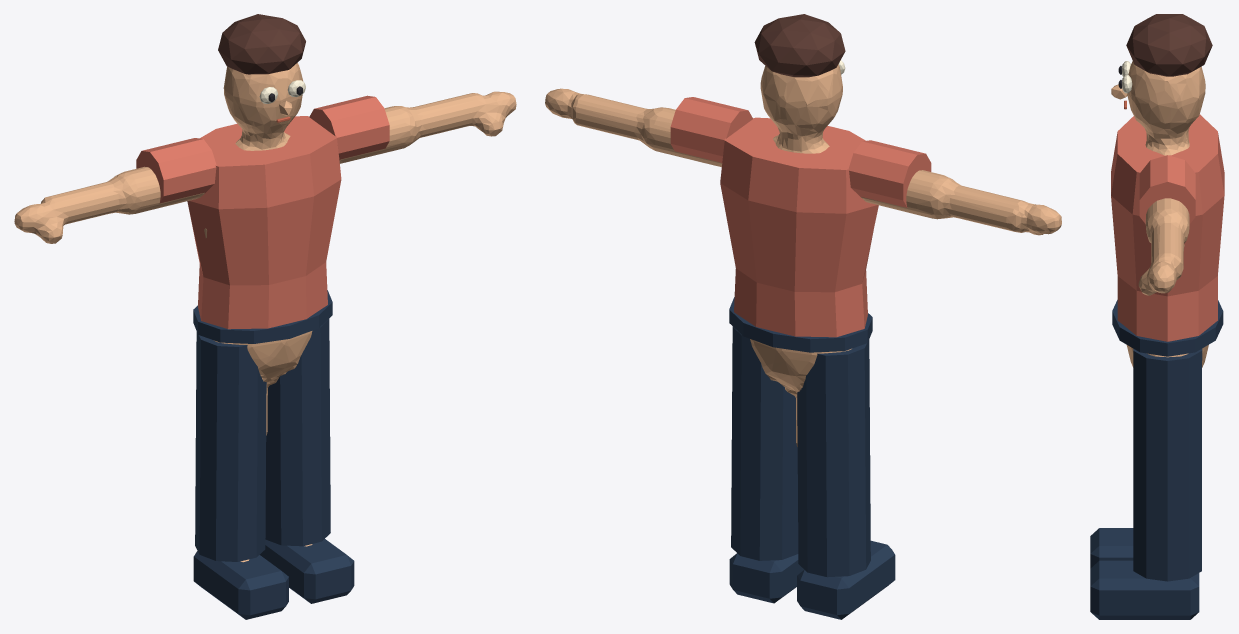
Rendered from Civilian_01.fbx.
The picture shows the model from 3 angles, left to right: view 1: azimuth 30°, elevation 25°; view 2: azimuth 150°, elevation 25°; view 3: azimuth 270°, elevation 25°; orthographic projection. The views are drawn at different scales.
Visible parts, largest first — view 1: Shirt, Civilian_01_Base_BaseMale_TPose_Body, PantsLeg, PantsLeg.001, Shoe, HairCap, Shoe.001, Sleeve, Sleeve.001, Belt; view 2: Shirt, Civilian_01_Base_BaseMale_TPose_Body, PantsLeg, PantsLeg.001, HairCap, Shoe, Sleeve, Sleeve.001, Shoe.001, Belt; view 3: PantsLeg.001, Shirt, Civilian_01_Base_BaseMale_TPose_Body, Shoe.001, HairCap, Sleeve.001, Belt, Shoe.
Boxes of the visible parts, box(x1,y1,x2,y2) form: Shirt: box(187, 116, 341, 329); Civilian_01_Base_BaseMale_TPose_Body: box(14, 63, 516, 562); PantsLeg: box(195, 332, 266, 561); PantsLeg.001: box(265, 319, 330, 546); Shoe: box(193, 551, 288, 619); HairCap: box(218, 14, 305, 74); Shoe.001: box(260, 539, 354, 603); Sleeve: box(136, 138, 216, 203); Sleeve.001: box(309, 95, 389, 160); Belt: box(193, 290, 332, 343); Shirt: box(720, 117, 878, 337); Civilian_01_Base_BaseMale_TPose_Body: box(545, 64, 1061, 446); PantsLeg: box(797, 340, 870, 577); PantsLeg.001: box(731, 326, 798, 560); HairCap: box(754, 14, 845, 77); Shoe: box(797, 540, 895, 619); Sleeve: box(848, 140, 931, 207); Sleeve.001: box(670, 97, 752, 162); Shoe.001: box(729, 553, 804, 603); Belt: box(729, 297, 872, 352); PantsLeg.001: box(1133, 349, 1202, 581); Shirt: box(1111, 114, 1224, 341); Civilian_01_Base_BaseMale_TPose_Body: box(1126, 61, 1208, 367); Shoe.001: box(1090, 560, 1199, 619); HairCap: box(1126, 14, 1212, 76); Sleeve.001: box(1139, 155, 1195, 223); Belt: box(1112, 300, 1223, 356); Shoe: box(1090, 528, 1133, 568).
Bounding box in the file's own units: 1.68 × 1.82 × 0.3817.
